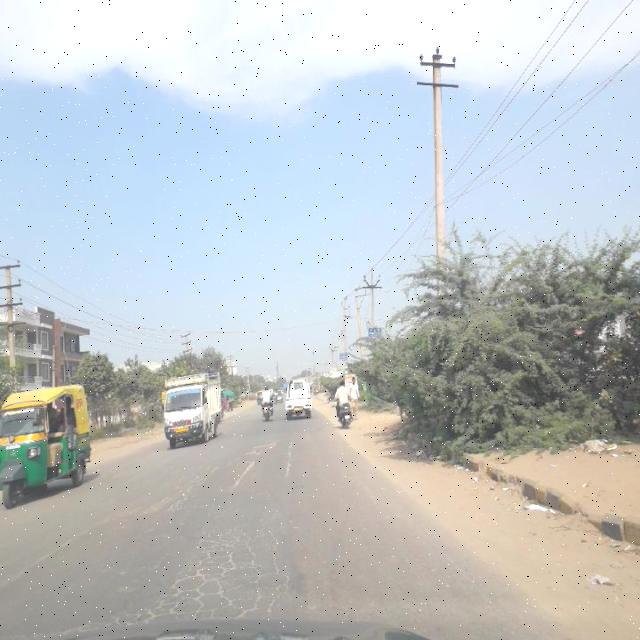D20: (131, 522, 304, 634)
